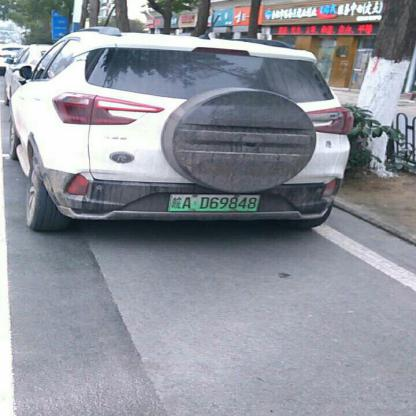lp: (168, 193, 260, 210)
